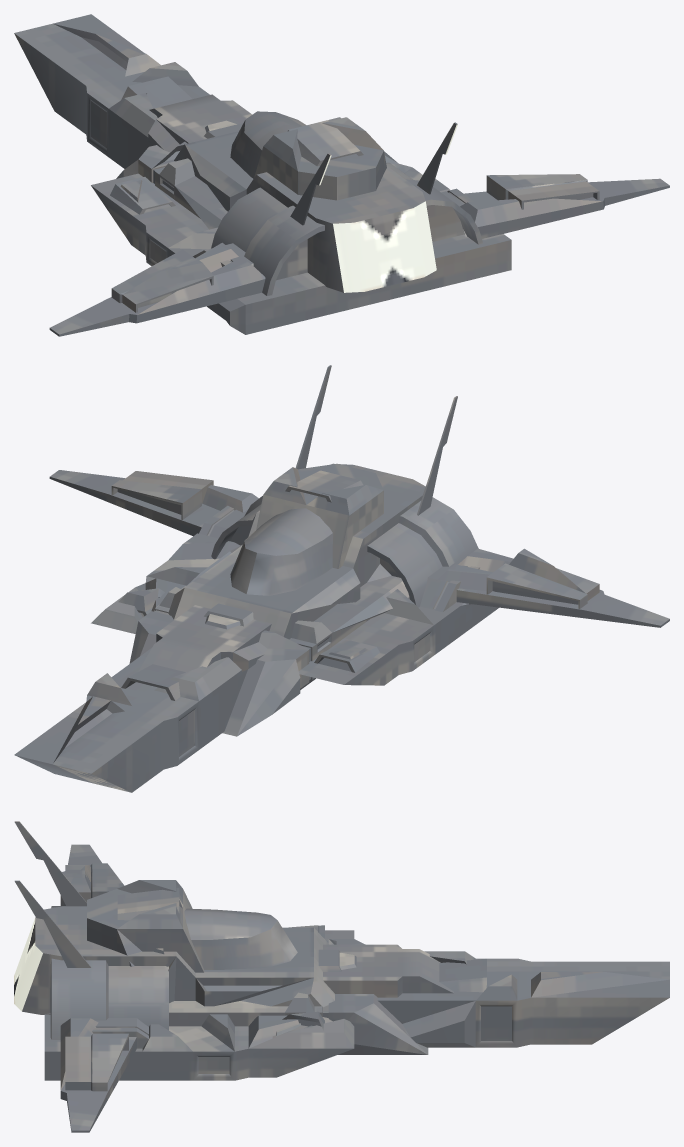
The model's file is challenger.glb.
3 renders of one model, top to bottom at view 1: azimuth 30°, elevation 25°; view 2: azimuth 150°, elevation 25°; view 3: azimuth 270°, elevation 25°, orthographic. The views are drawn at different scales.
Parts seen in each view (by area): view 1: Ship; view 2: Ship; view 3: Ship.
Part boxes in pixels (x1,y1,x2,y2): Ship: (14,14,669,336); Ship: (14,365,669,792); Ship: (14,821,669,1132).
Size of the model in its own units: 9.28 by 2.67 by 9.
Materials: 1 (1 with a texture image).
